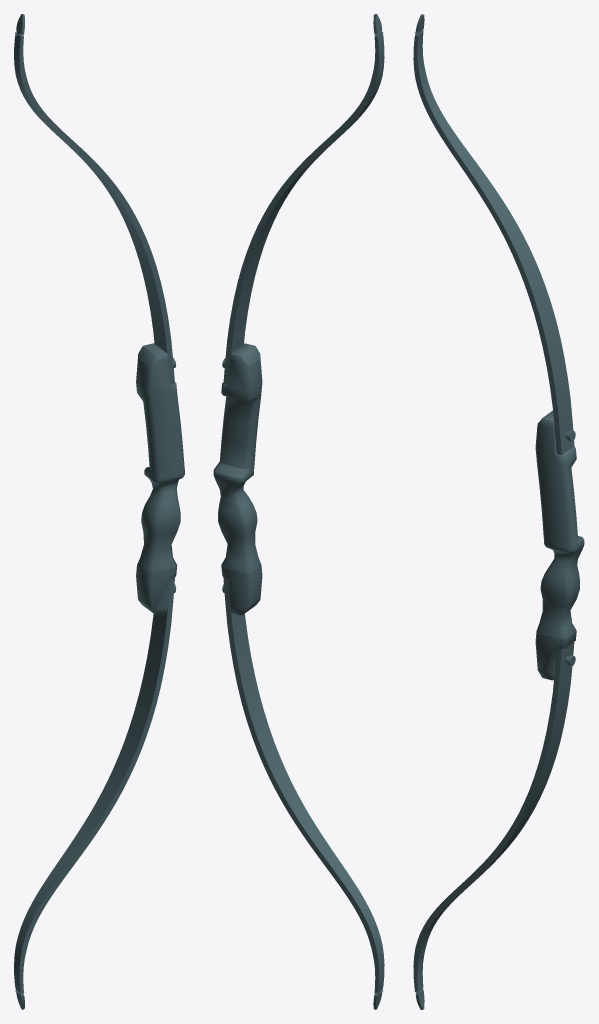
File: Model_Bow_Recurve - Copy.FBX
3 renders of one model, left to right at view 1: azimuth 30°, elevation 25°; view 2: azimuth 150°, elevation 25°; view 3: azimuth 330°, elevation 25°, orthographic.
Parts seen in each view (by area): view 1: Bow_Recurve; view 2: Bow_Recurve; view 3: Bow_Recurve.
Part boxes in pixels (bbox=[...]): Bow_Recurve: bbox=[14, 14, 184, 1009]; Bow_Recurve: bbox=[213, 14, 384, 1009]; Bow_Recurve: bbox=[413, 14, 584, 1009].
Size of the model in its own units: 26.96 by 156 by 4.13.
